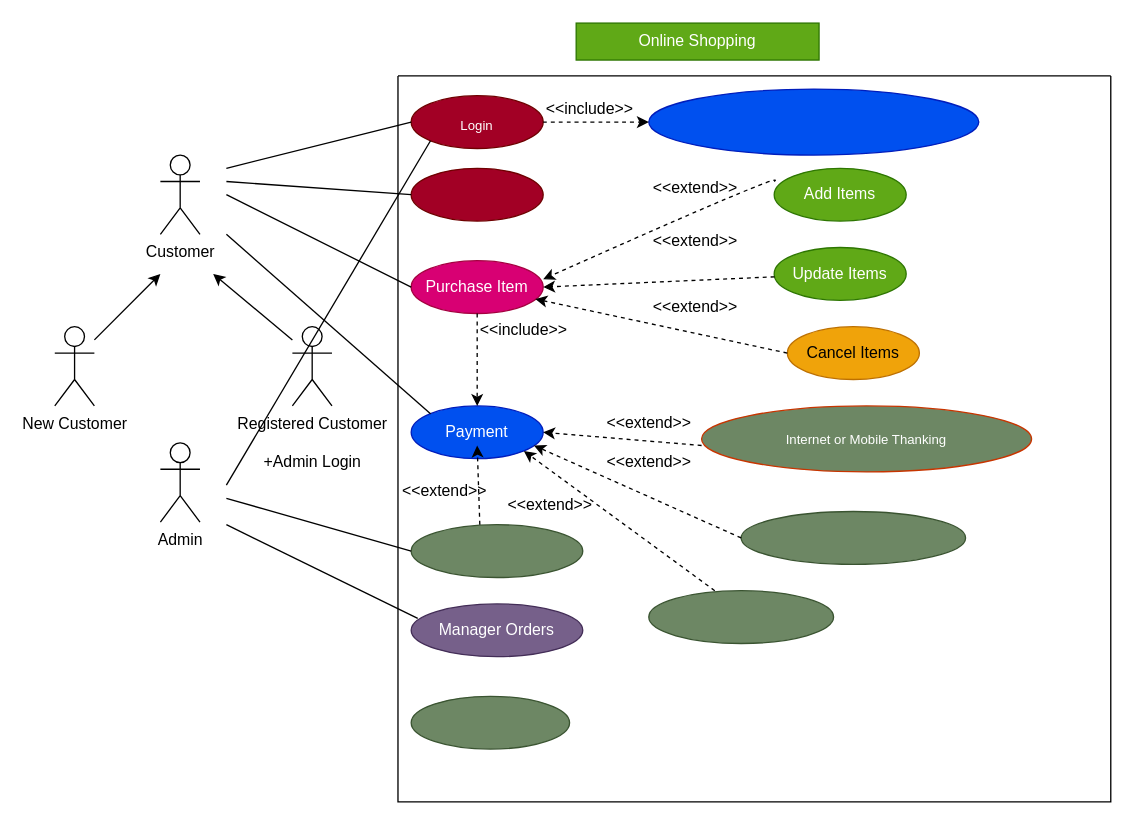
The diagram is 1134 pixels wide and 825 high, and some of its shapes have lost their labels. Here are the shapes that lost their labels. From the top down, the centre of each, then its label:
At [813,121]: "Verify username and Password".
At [476,194]: "View Interns".
At [496,550]: "Cash Payment".
At [853,537]: "Wallet Payment".
At [740,616]: "Card Payment".
At [490,722]: "Process Orders".
